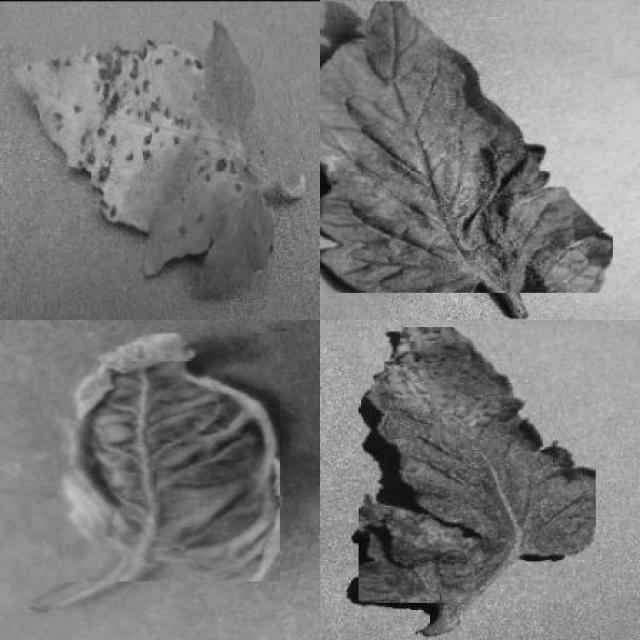Late Blight: (320, 2, 613, 294)
Septoria: (8, 20, 275, 294), (358, 327, 596, 603)
Yellow Leaf Curl Virus: (58, 334, 281, 582)
